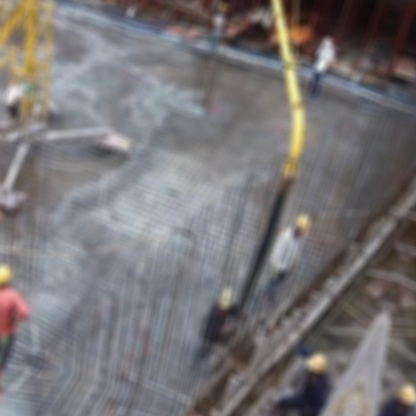yellow: (302, 347, 334, 376), (290, 210, 314, 234), (0, 258, 17, 289)
